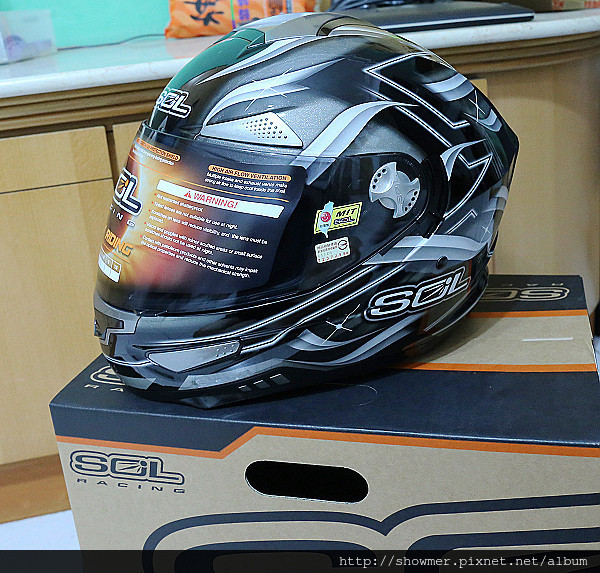helmet: (117, 33, 525, 358)
